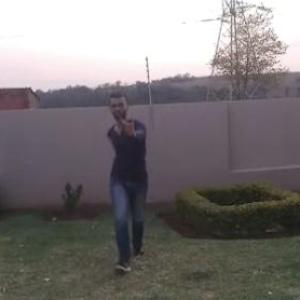takeoff-hand: (114, 109, 144, 145)
